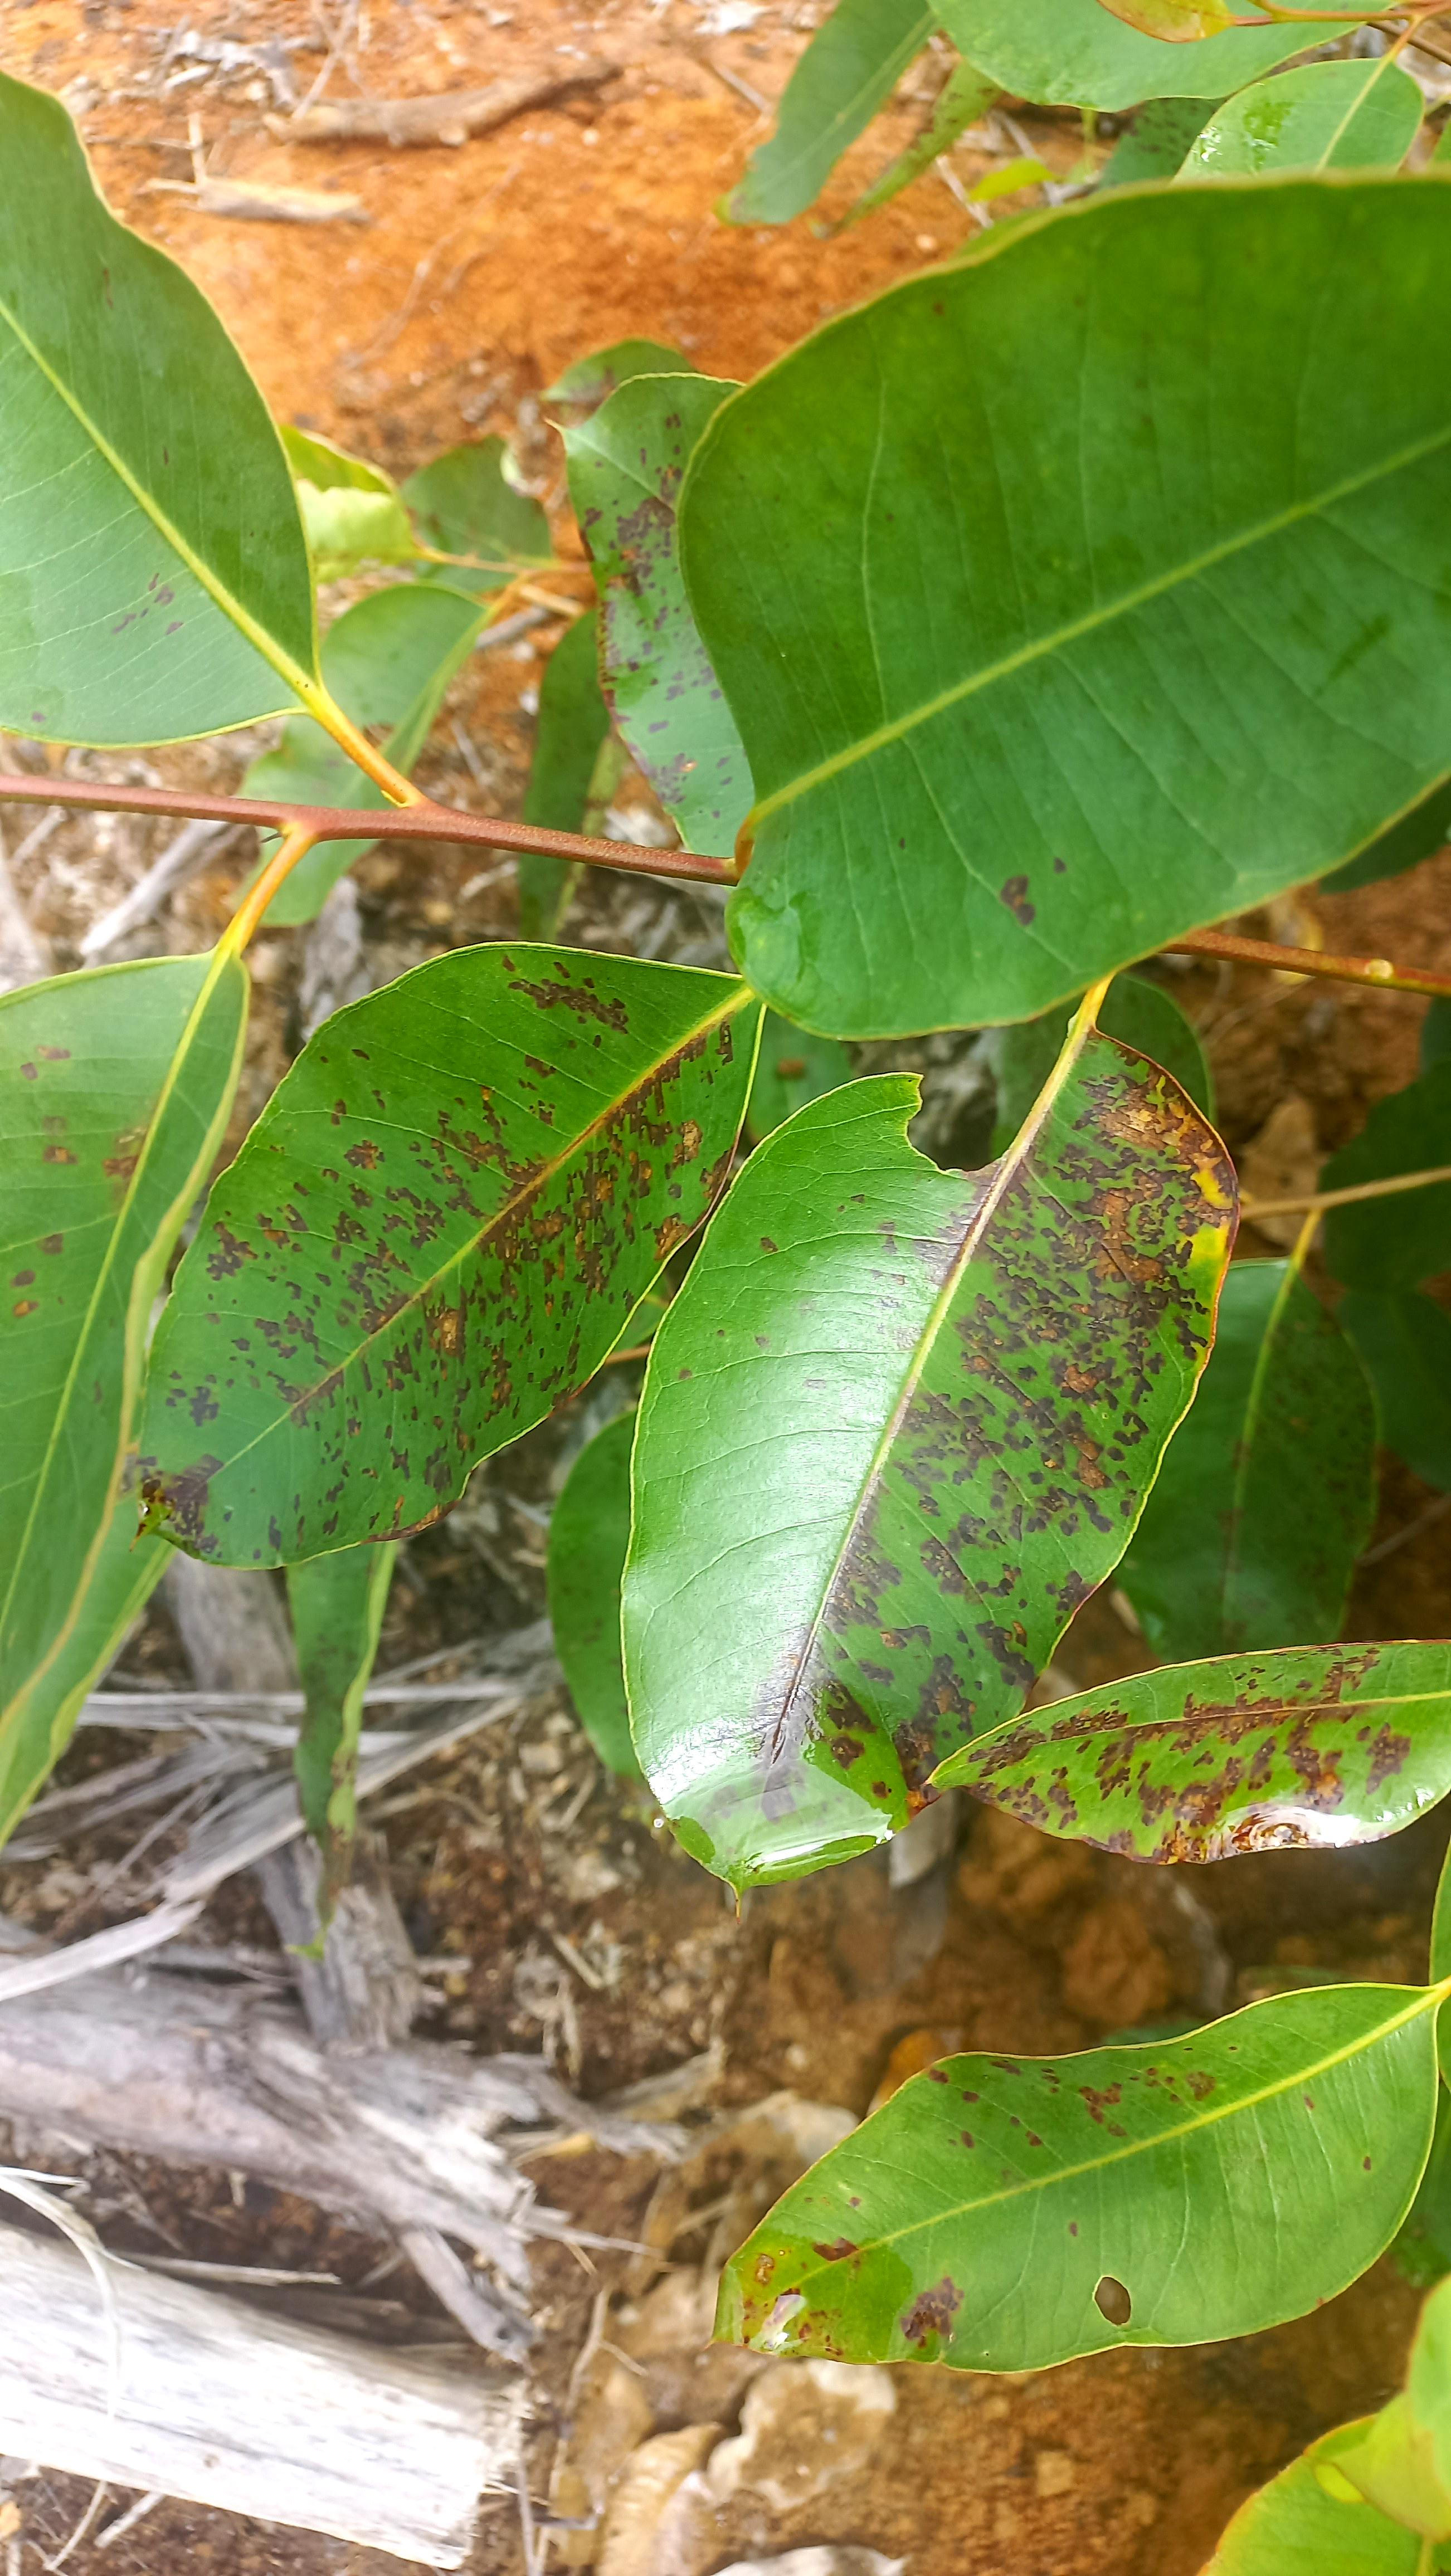Xanthomonas: (106, 971, 770, 1589), (756, 2006, 1226, 2472), (922, 1076, 1239, 1522), (1023, 1645, 1400, 1874), (559, 380, 715, 697), (814, 1560, 987, 1767)
